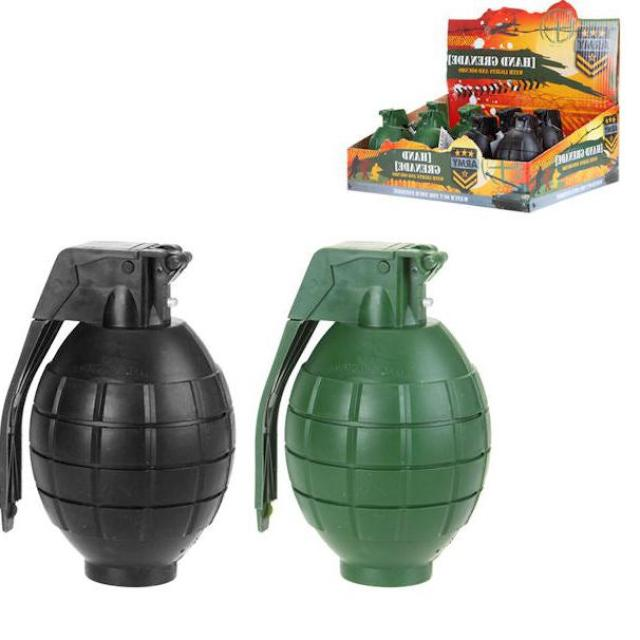grenade: (259, 246, 492, 588), (8, 246, 238, 588)
